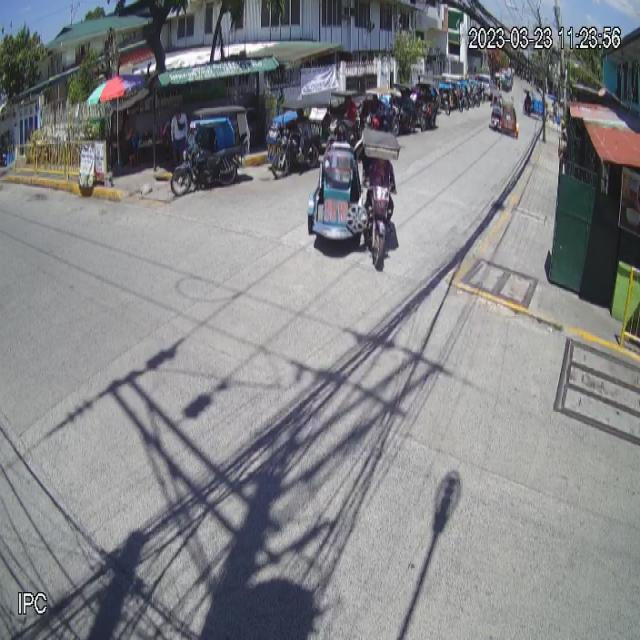Tricycle: (306, 127, 402, 276), (170, 104, 252, 197)
